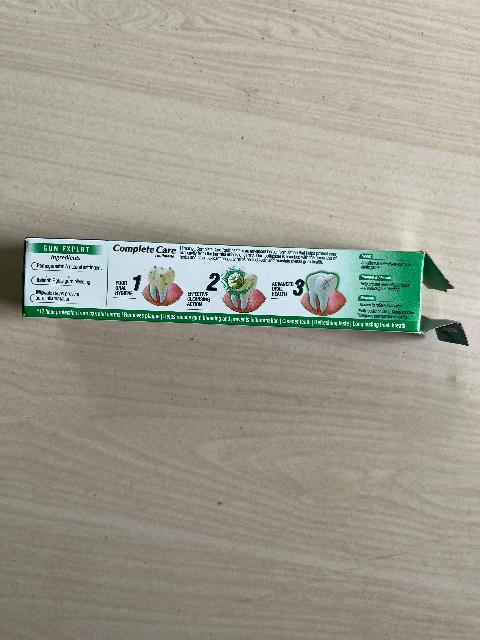himalaya toothpaste: (21, 240, 425, 338)
